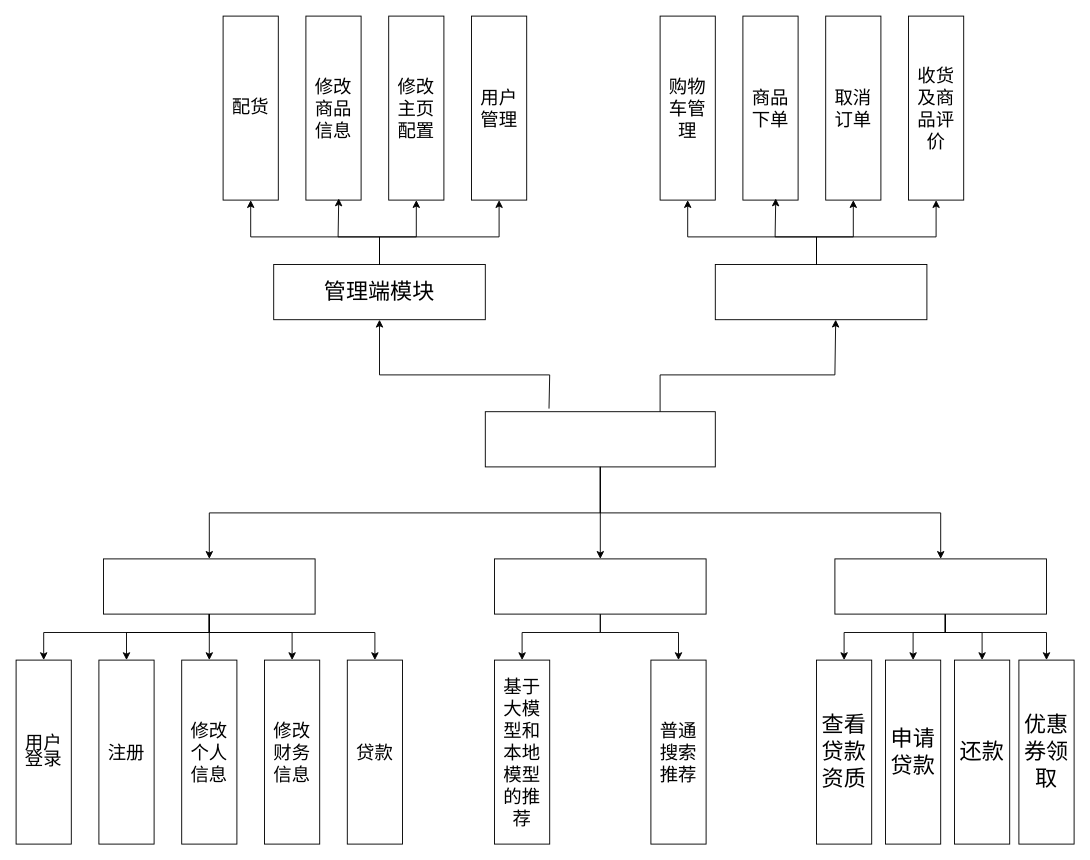
Some shapes in this 1090 by 860 pixel diagram are drawn without their labels. Each missing label, with the box of its shape:
基于大模型的电商分析系统: (484, 411, 715, 467)
智能推荐模块: (494, 558, 706, 614)
用户基本信息模块: (103, 558, 315, 614)
订单管理模块: (714, 264, 927, 320)
贷款模块: (834, 558, 1046, 614)
